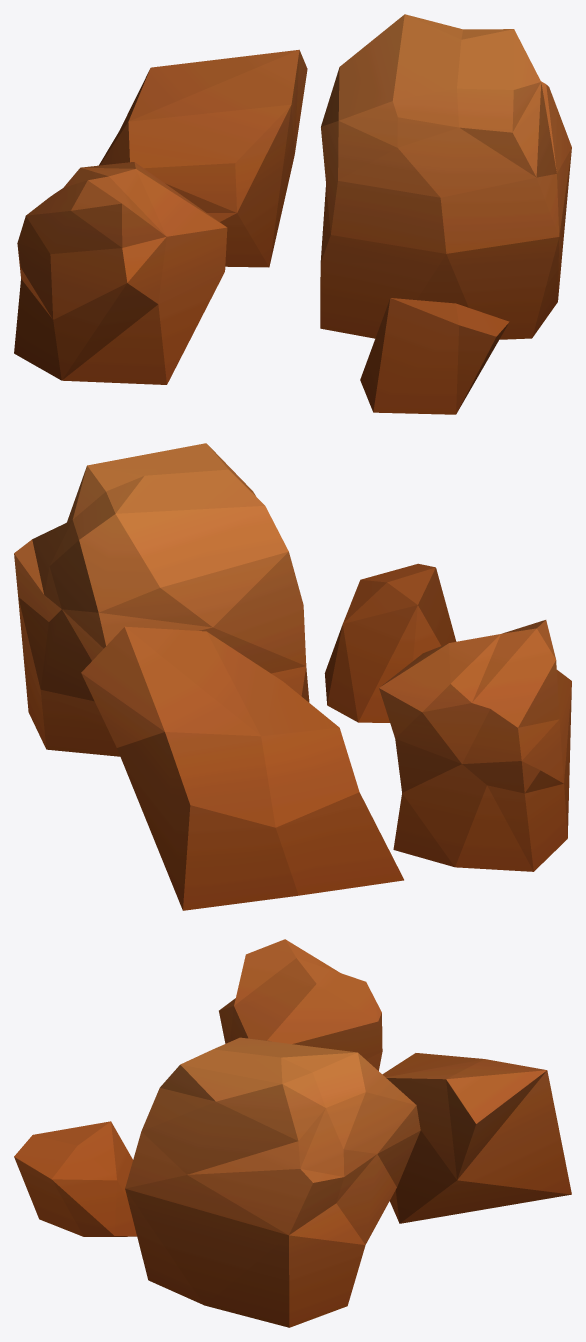
File: copper_ore.glb
3 renders of one model, top to bottom at view 1: azimuth 30°, elevation 25°; view 2: azimuth 150°, elevation 25°; view 3: azimuth 270°, elevation 25°, orthographic. The views are drawn at different scales.
Visible parts, largest first — view 1: SM_Copper_Node_042; view 2: SM_Copper_Node_042; view 3: SM_Copper_Node_042.
Part boxes in pixels (<box>): SM_Copper_Node_042: <box>14,14,571,414</box>; SM_Copper_Node_042: <box>14,443,571,910</box>; SM_Copper_Node_042: <box>14,939,571,1327</box>.
Bounding box in the file's own units: 0.5294 × 0.2386 × 0.537.
Materials: 1 (1 with a texture image).
